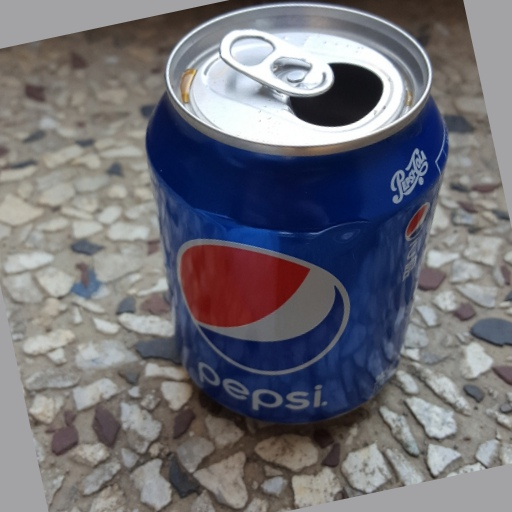Metal_0: (145, 4, 448, 426)
